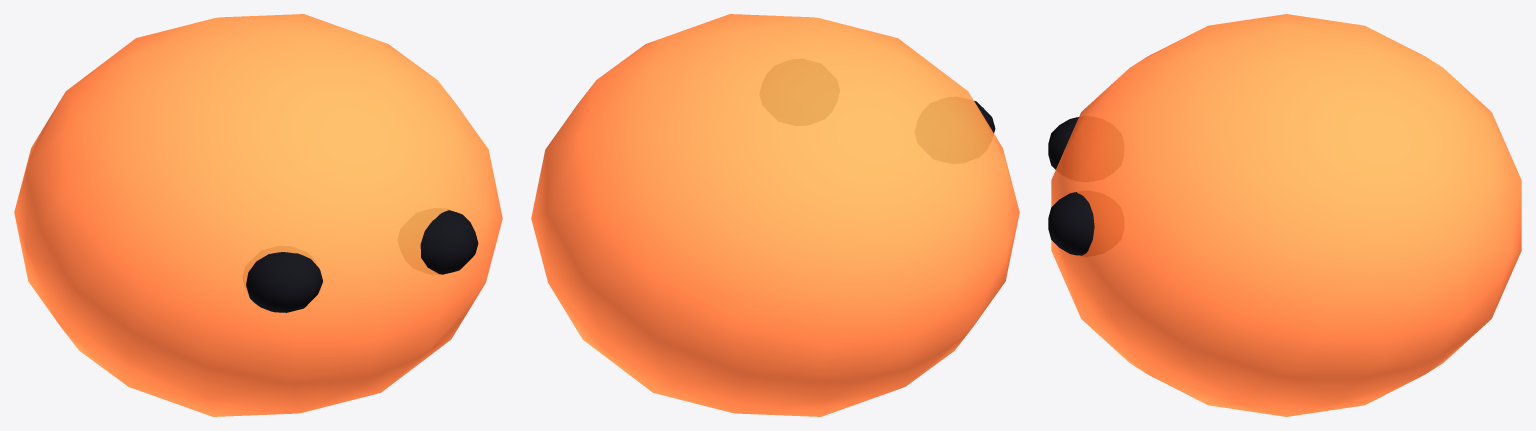
Rendered from magmaring.glb.
3 views of the same model, side by side, from view 1: azimuth 30°, elevation 25°; view 2: azimuth 150°, elevation 25°; view 3: azimuth 270°, elevation 25° (orthographic).
Visible parts, largest first — view 1: core; view 2: core; view 3: core.
Part boxes in pixels (x1=…): core: x1=14, y1=14, x2=502, y2=416; core: x1=531, y1=14, x2=1019, y2=416; core: x1=1048, y1=14, x2=1521, y2=416.
Bounding box in the file's own units: 1.18 × 0.9403 × 1.18.
